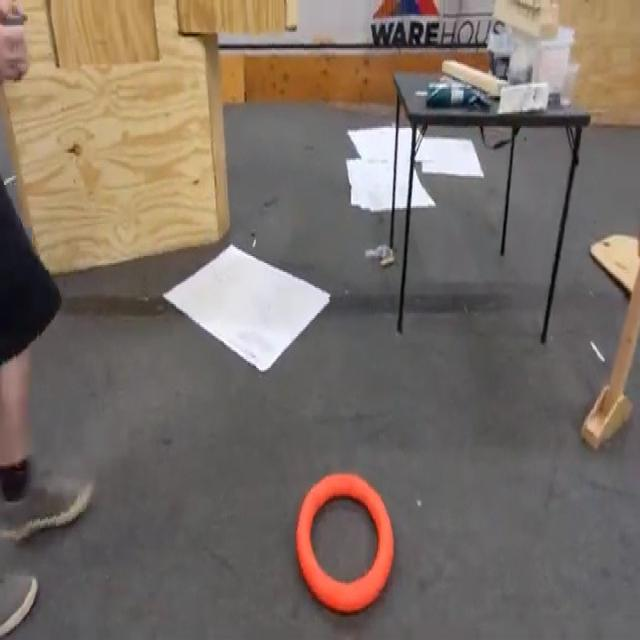note: (297, 480, 395, 616)
